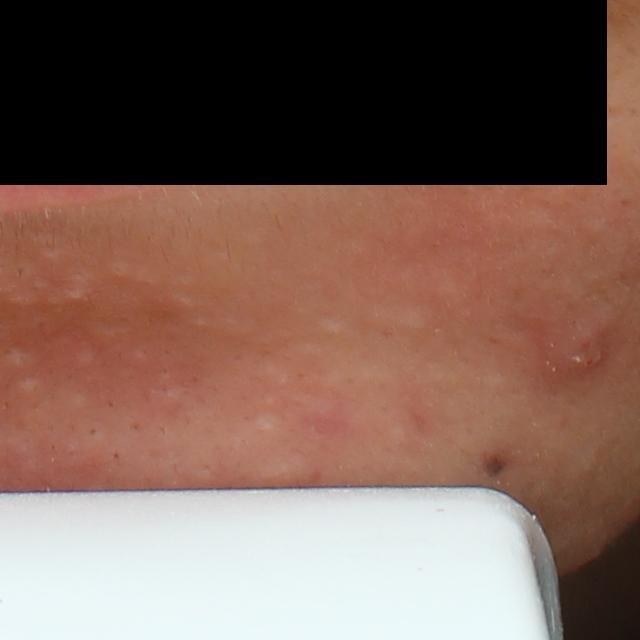comedo: (84, 421, 106, 441), (111, 449, 122, 463), (105, 398, 115, 411)
hypertrophic_scar: (105, 248, 193, 286), (245, 406, 290, 438), (49, 286, 92, 306), (68, 343, 98, 367), (67, 386, 98, 407), (169, 292, 207, 309), (155, 383, 195, 398), (317, 320, 349, 338), (36, 246, 64, 266), (6, 292, 43, 307), (4, 349, 33, 366), (15, 372, 40, 391), (99, 320, 127, 335)
nevus: (477, 446, 512, 481)
papule: (545, 330, 612, 390)
